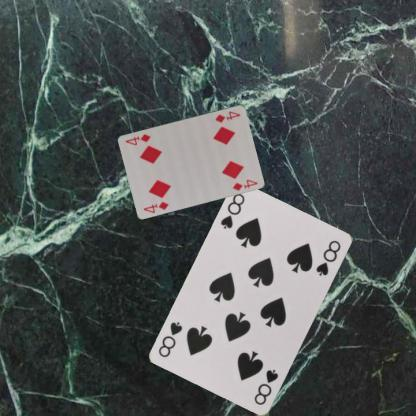4d: (212, 108, 242, 124), (141, 198, 170, 214)
8s: (218, 190, 247, 232), (251, 367, 280, 407)
